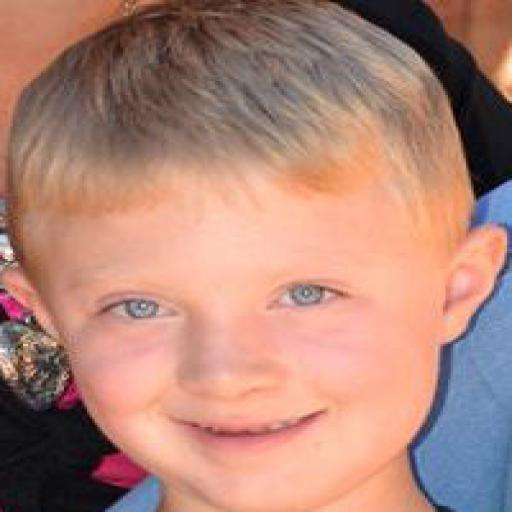Autism: (4, 13, 512, 496)
